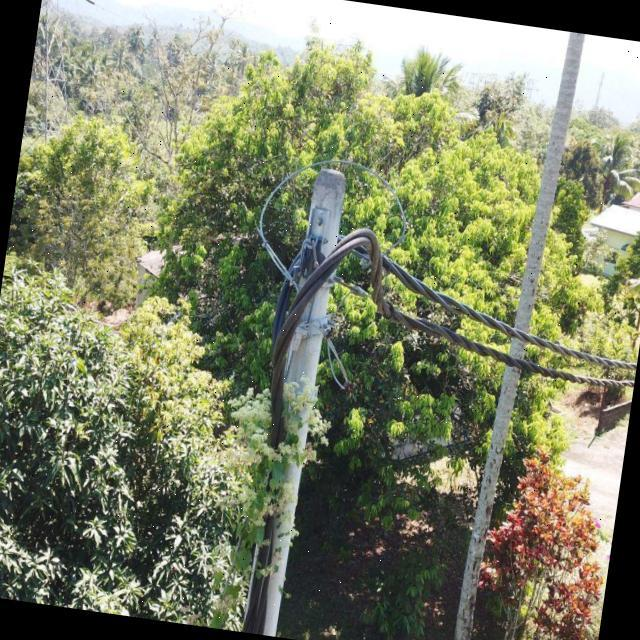critical vegetation: (193, 351, 340, 640)
